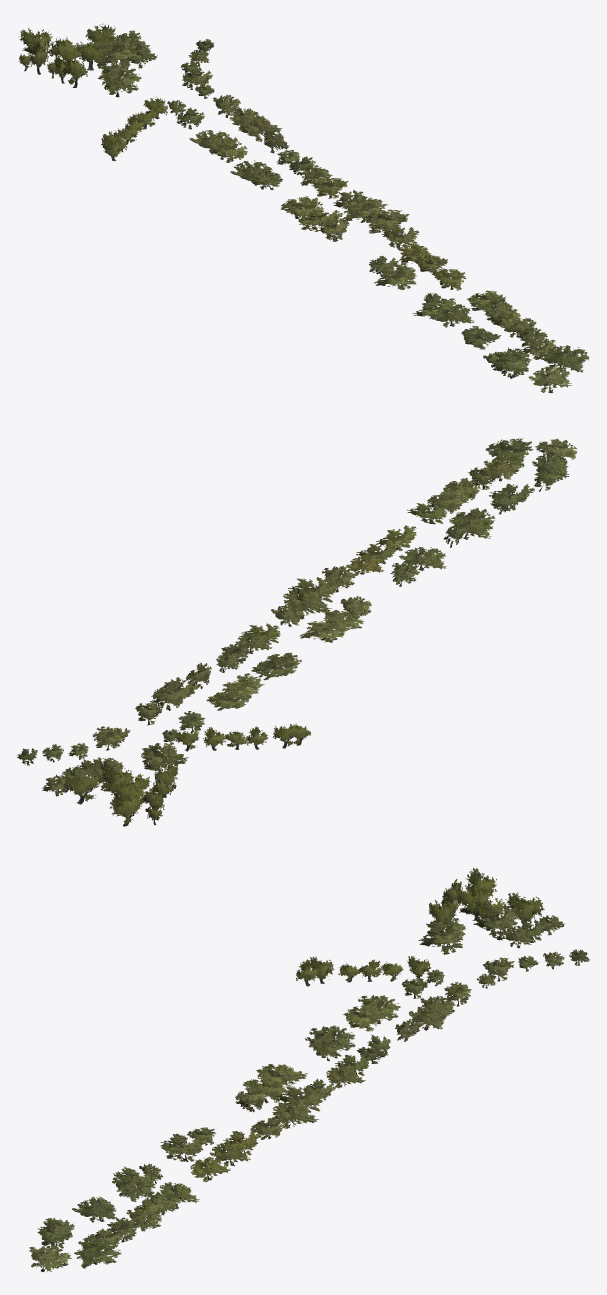
3 views of the same model, one above another, from view 1: azimuth 30°, elevation 25°; view 2: azimuth 150°, elevation 25°; view 3: azimuth 330°, elevation 25° (orthographic). The views are drawn at different scales.
Visible parts, largest first — view 1: object 1; view 2: object 1; view 3: object 1.
Part boxes in pixels (x1=…): object 1: x1=18, y1=23, x2=589, y2=392; object 1: x1=17, y1=438, x2=577, y2=824; object 1: x1=29, y1=868, x2=590, y2=1271.
Bounding box in the file's own units: 110 × 17.61 × 458.
3 materials, 3 textured.
